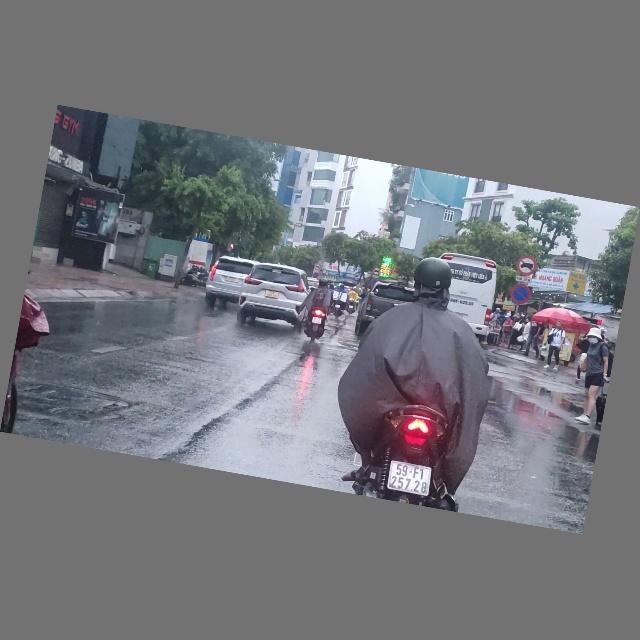P.106a*Xe tai: (514, 255, 539, 279), (372, 267, 381, 276)
P.131a: (508, 281, 533, 307)
